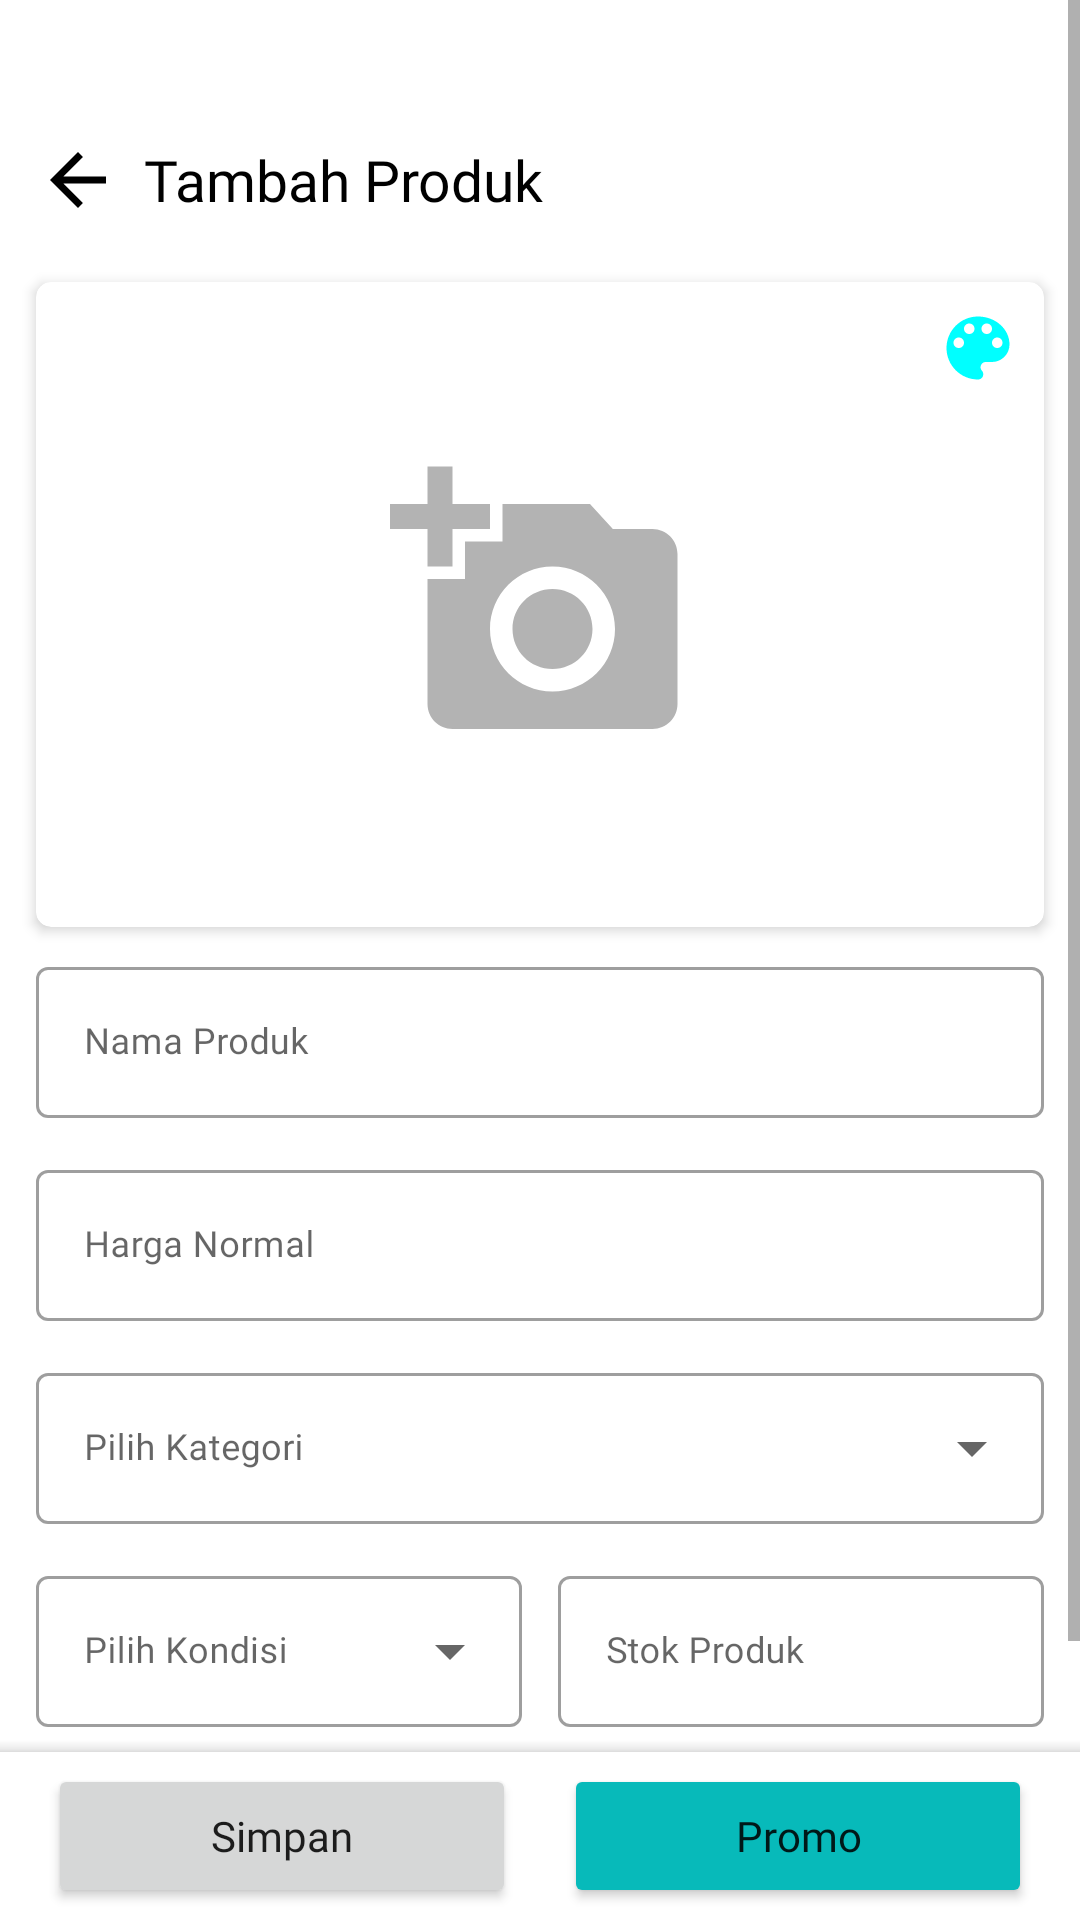

Icon click points for this 1080 × 1920 phone screenshot, format [x,y]:
add photo: [534,597]
arrow back: [78,180]
